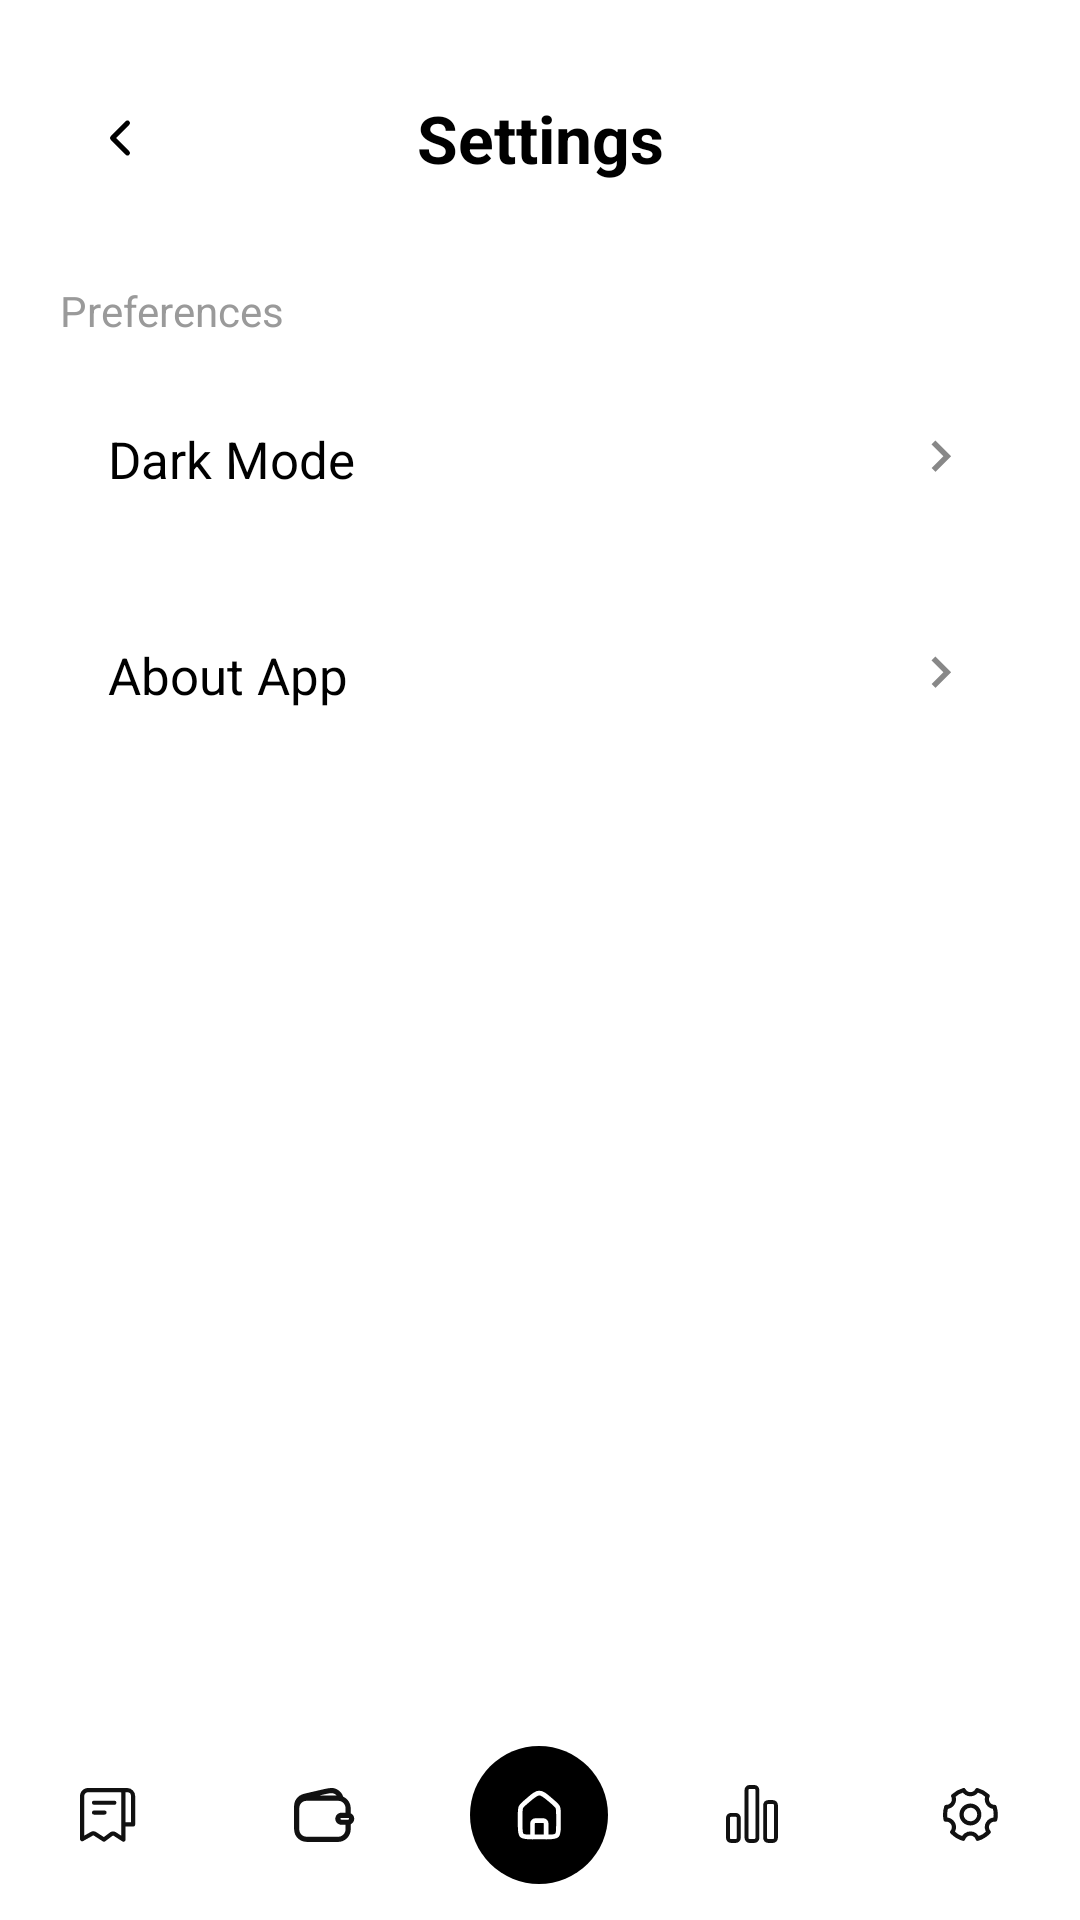

Where icons sit on this 1080w x 1920h app screen, as (x1,y1,x2,y2):
back: (110,120,130,156)
bill: (80,1788,136,1842)
chevron right: (931,440,951,472), (931,656,951,688)
setting: (943,1788,998,1841)
stats: (726,1785,778,1843)
wallet: (294,1788,355,1842)
